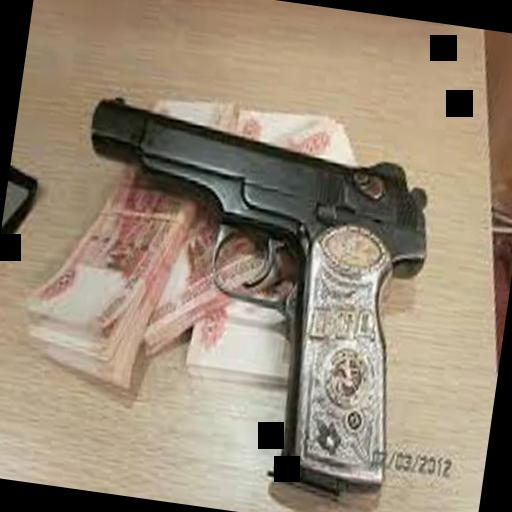Handgun: (0, 0, 512, 512), (39, 76, 445, 510)
